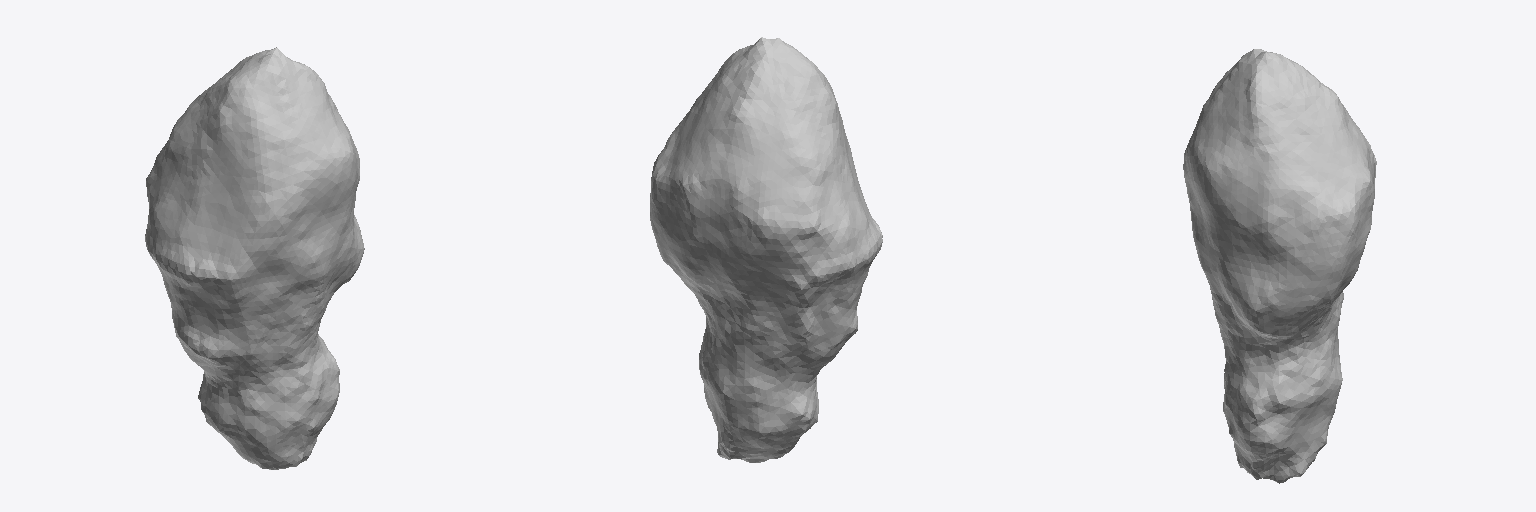
File: 4179toutatis.obj
The picture shows the model from 3 angles: view 1: azimuth 30°, elevation 25°; view 2: azimuth 150°, elevation 25°; view 3: azimuth 270°, elevation 25°; orthographic projection.
Size of the model in its own units: 2.29 by 4.6 by 1.92.